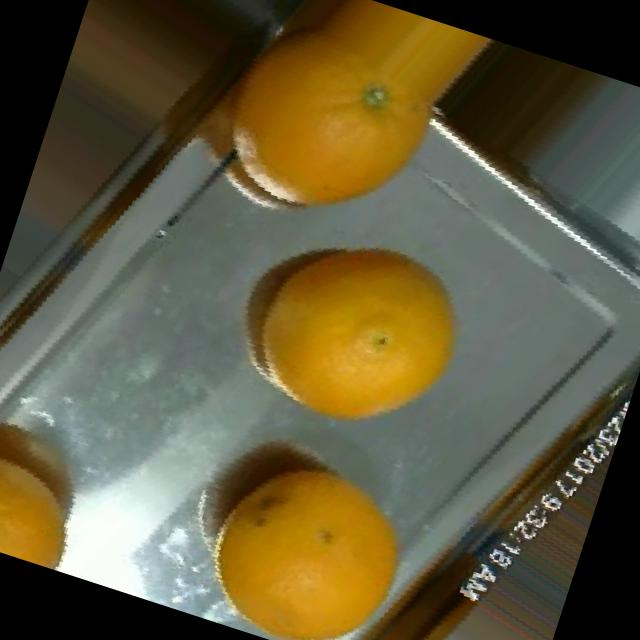Fruit: (0, 381, 131, 580)
